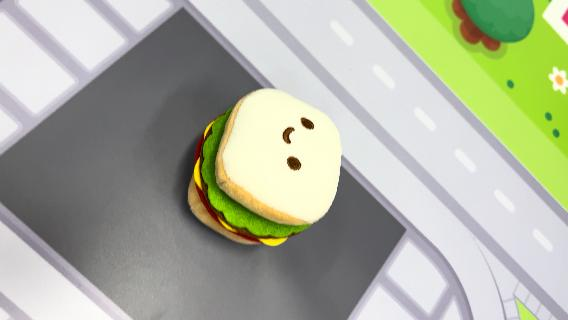sandwich: (186, 85, 344, 248)
